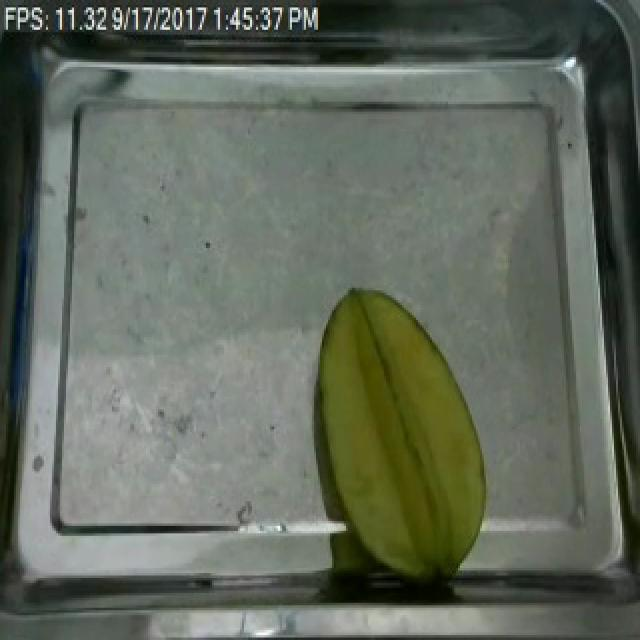fruit: (304, 278, 498, 598)
